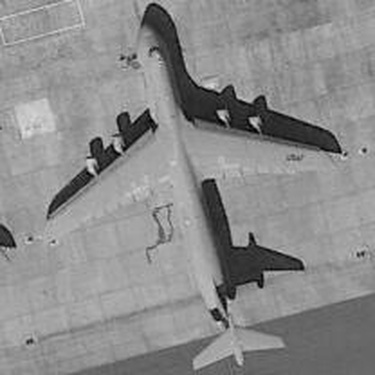airplane: (18, 9, 355, 371)
